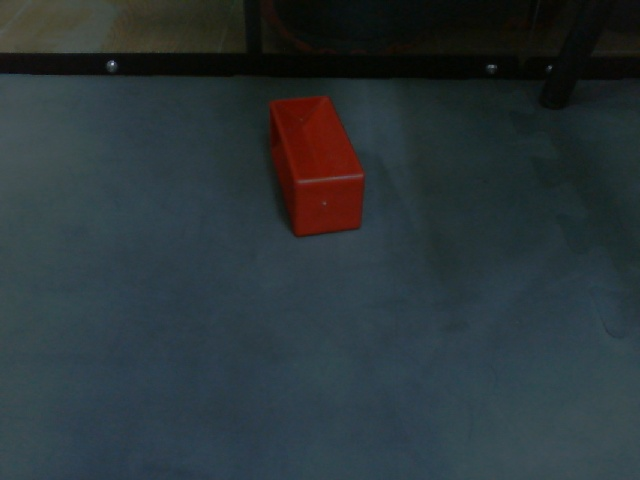RedSample: (264, 94, 367, 239)
